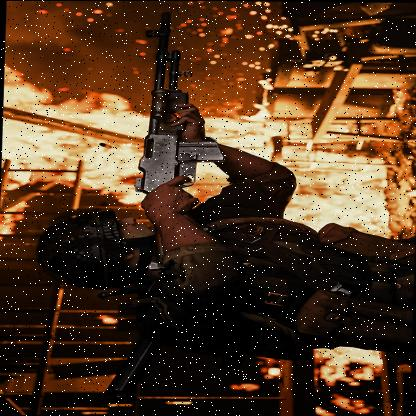rifle: (120, 4, 228, 266)
